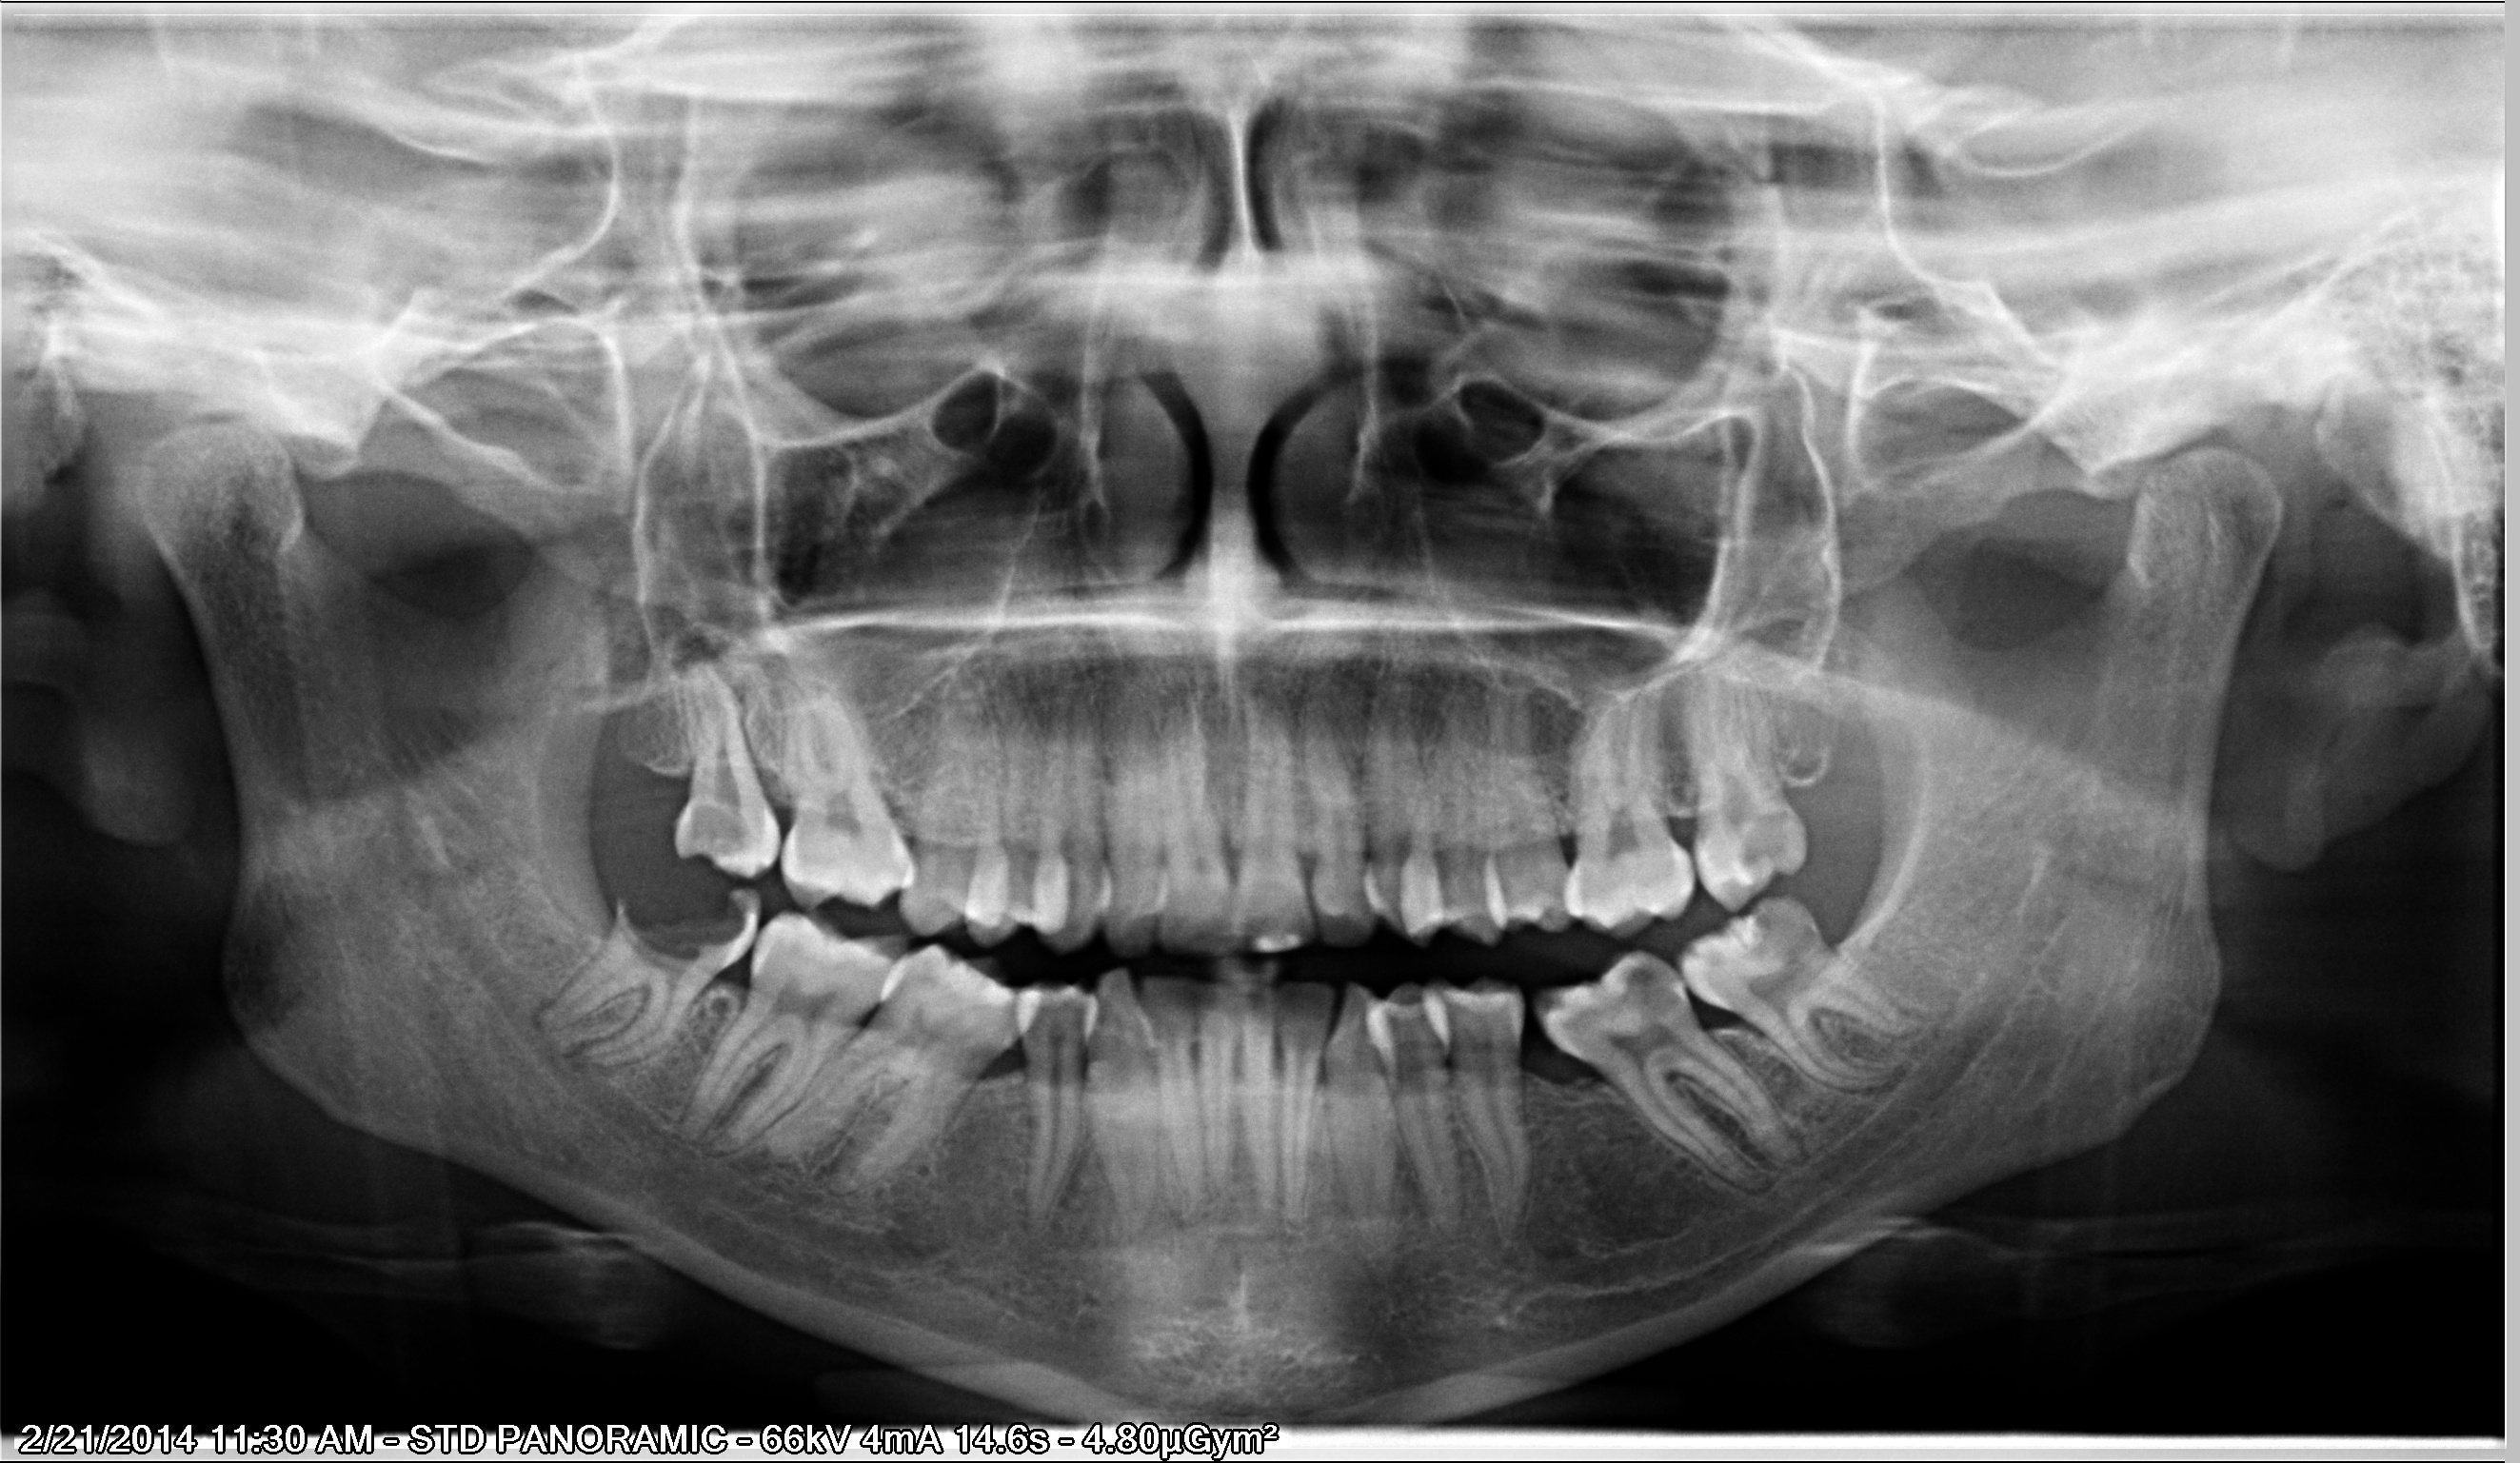API: (1848, 1061, 1903, 1094)
CAR: (681, 801, 751, 860)
